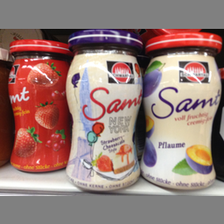jam: (142, 32, 222, 192), (66, 29, 143, 193), (8, 41, 68, 173)
